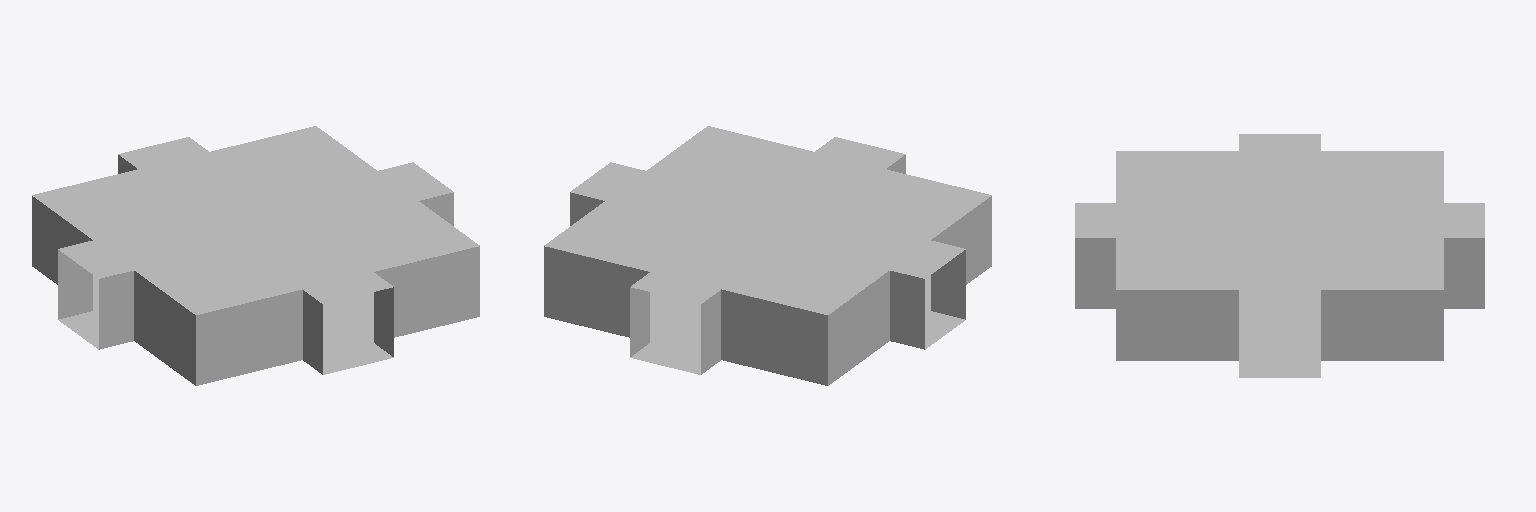
3 views of the same model, side by side, from view 1: azimuth 30°, elevation 25°; view 2: azimuth 150°, elevation 25°; view 3: azimuth 270°, elevation 25° (orthographic).
Parts seen in each view (by area): view 1: nr0.001; view 2: nr0.001; view 3: nr0.001.
Boxes of the visible parts, box(x1,y1,x2,y2) form: nr0.001: box(32, 126, 479, 385); nr0.001: box(544, 126, 991, 385); nr0.001: box(1075, 134, 1484, 377).
Size of the model in its own units: 10 by 1.9 by 10.